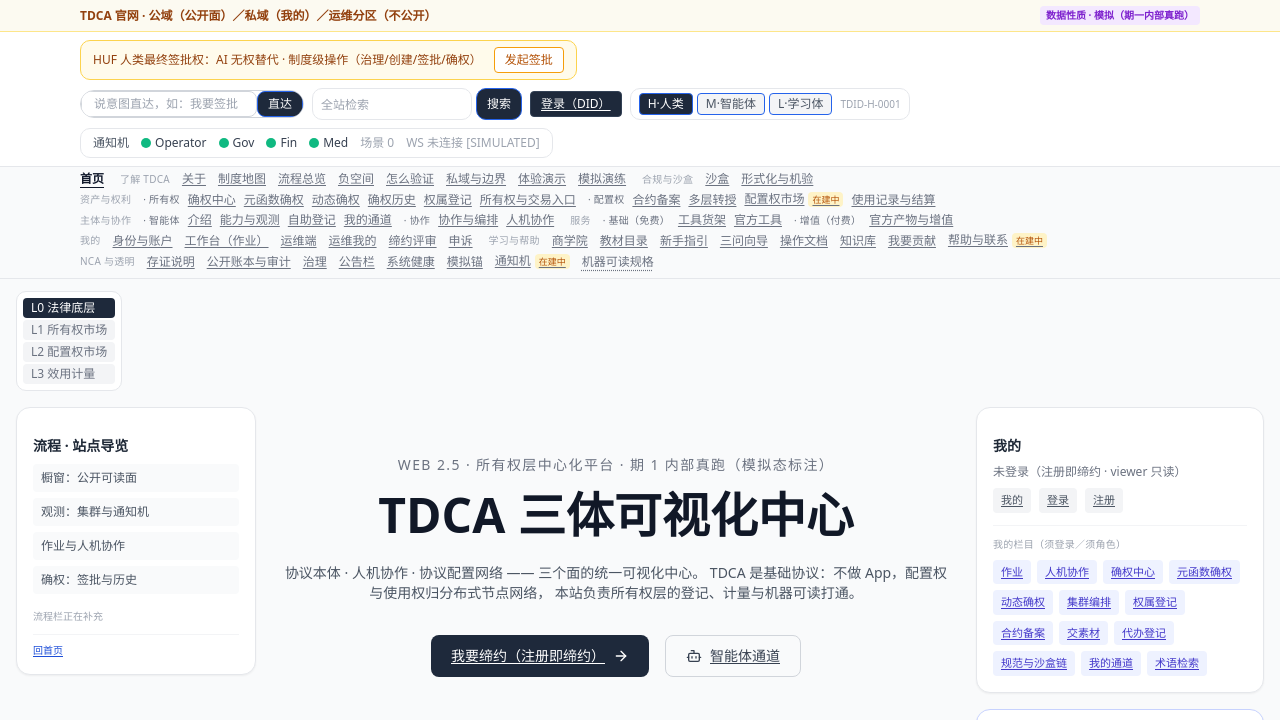
Test: F0-A1 应用壳 › HUF 常驻 Banner：打开模态 → 取消即中止（签批状态不置位）
The image size is (1280, 720).
Expected: the element with test id "huf-banner" shows "HUF 人类最终签批权", x1=93 y1=51 x2=288 y2=68
Click the button with test id "huf-banner-open".
click(529, 60)  # box x1=494 y1=47 x2=564 y2=73
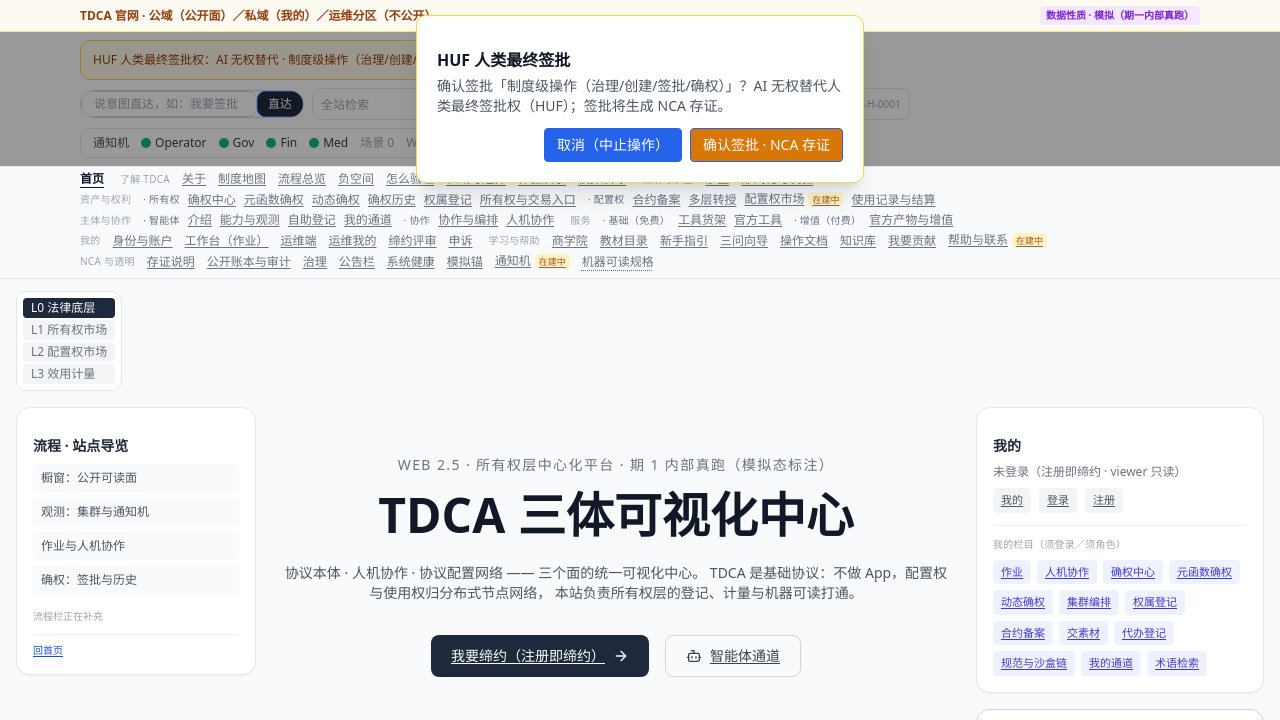
Expected: the element with test id "huf-modal" is shown, x1=0 y1=32 x2=1279 y2=166
Click the button with test id "huf-cancel".
click(613, 145)  # box x1=544 y1=128 x2=682 y2=162
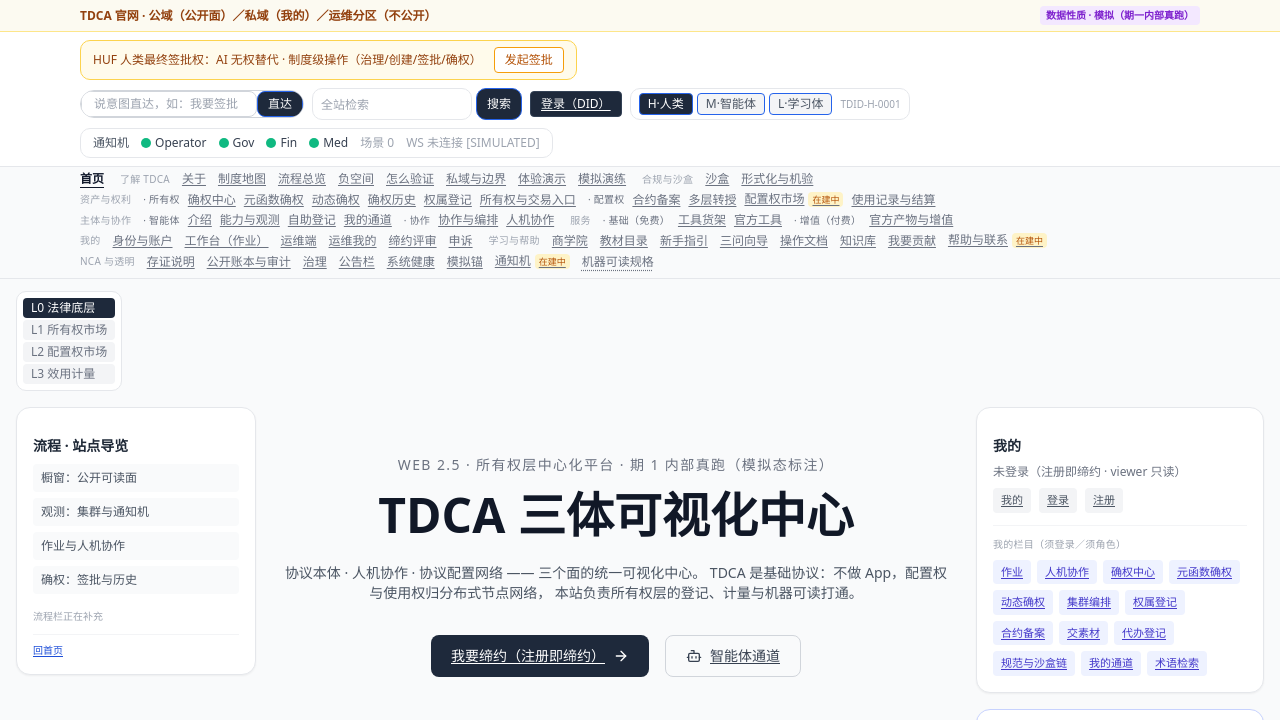
Expected: the button with test id "huf-banner-open" reads "发起签批", x1=494 y1=47 x2=564 y2=73
Expected: the element with test id "huf-modal" is gone
